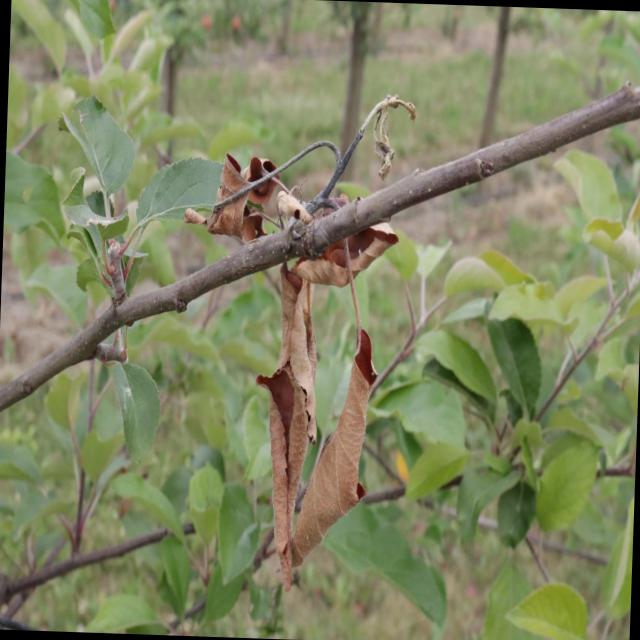-FireBlight-: (190, 146, 400, 564)
